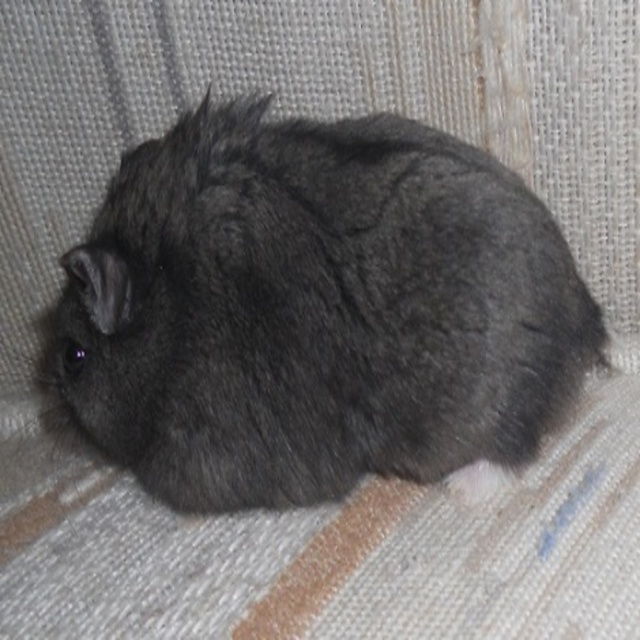Rabbit: (53, 87, 615, 512)
